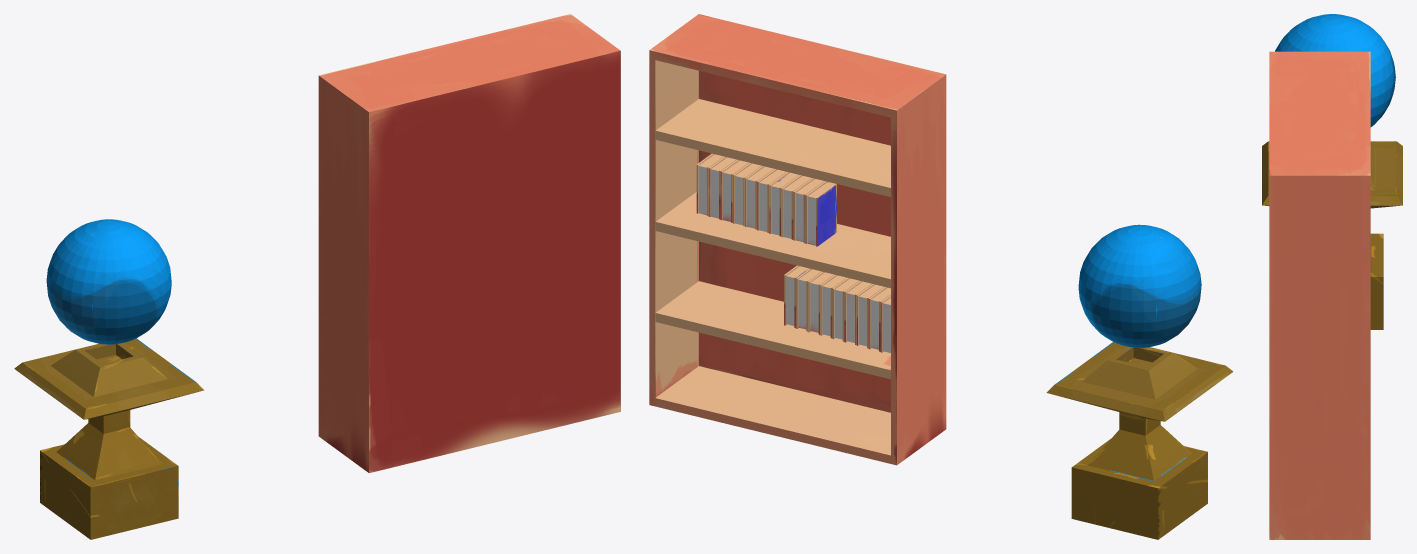
File: hexacote.glb
3 views of the same model, side by side, from view 1: azimuth 30°, elevation 25°; view 2: azimuth 150°, elevation 25°; view 3: azimuth 270°, elevation 25° (orthographic). The views are drawn at different scales.
Parts seen in each view (by area): view 1: Cube.002, Cube.005; view 2: Cube.002, Cube.005; view 3: Cube.002, Cube.005.
Boxes of the visible parts, x1,y1,x2,y2 form: Cube.002: (318, 14, 620, 473); Cube.005: (14, 219, 203, 539); Cube.002: (649, 14, 946, 465); Cube.005: (1046, 224, 1233, 539); Cube.002: (1269, 51, 1370, 539); Cube.005: (1262, 14, 1402, 329).
Size of the model in its own units: 3.45 by 2.23 by 0.7712.
2 materials, 2 textured.
